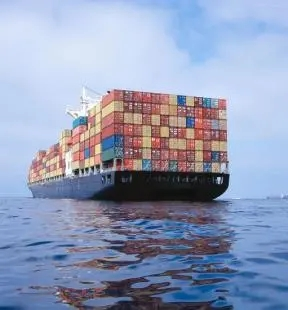Cargoship: (26, 82, 230, 200)
